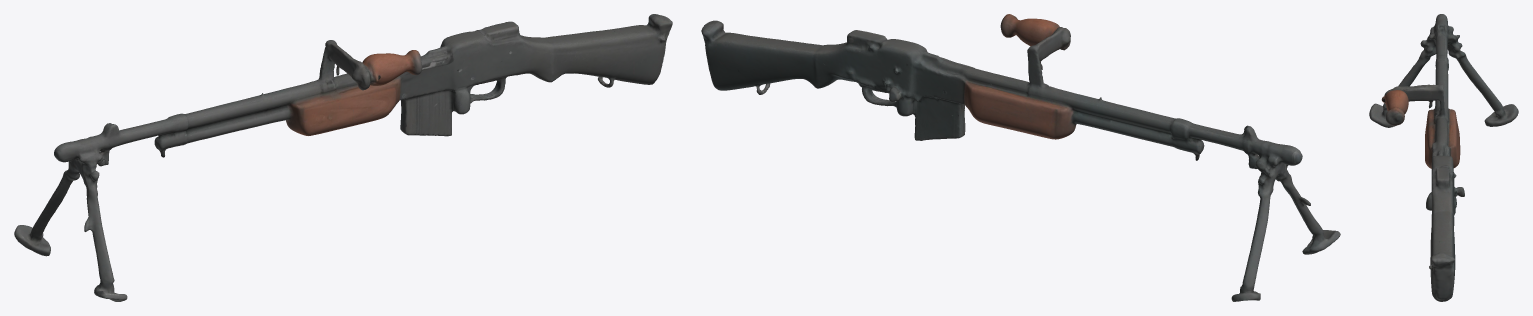
Rendered from browning.glb.
3 renders of one model, left to right at view 1: azimuth 30°, elevation 25°; view 2: azimuth 150°, elevation 25°; view 3: azimuth 270°, elevation 25°, orthographic. The views are drawn at different scales.
Bounding box in the file's own units: 2 × 0.5511 × 0.5402.
Materials: 1 (1 with a texture image).
